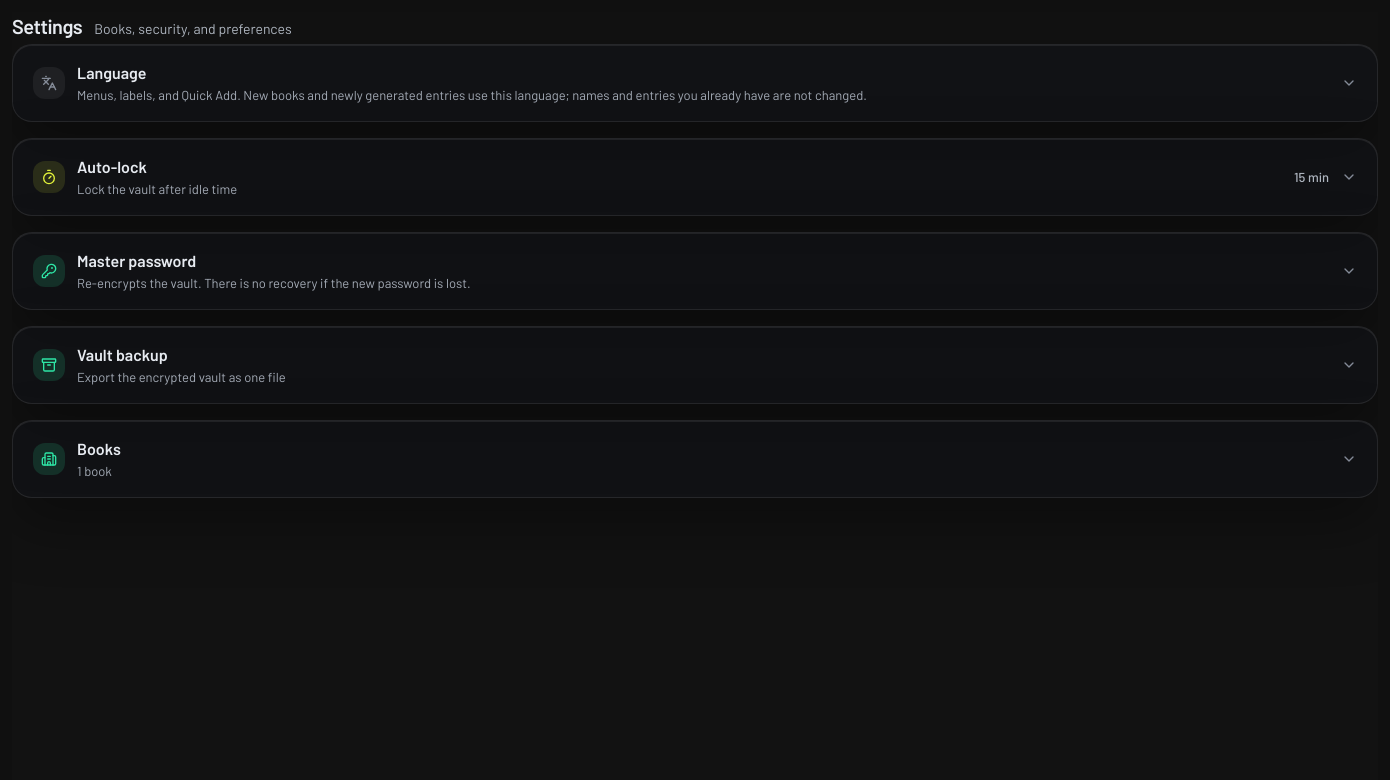
Scenario: SettingsPage archived books › a restore whose name was taken says which name and what to do, and the book stays archived
The image size is (1390, 780).
Click the button "Books 1 book".
click(49, 459)  # box [13,421,1377,497]
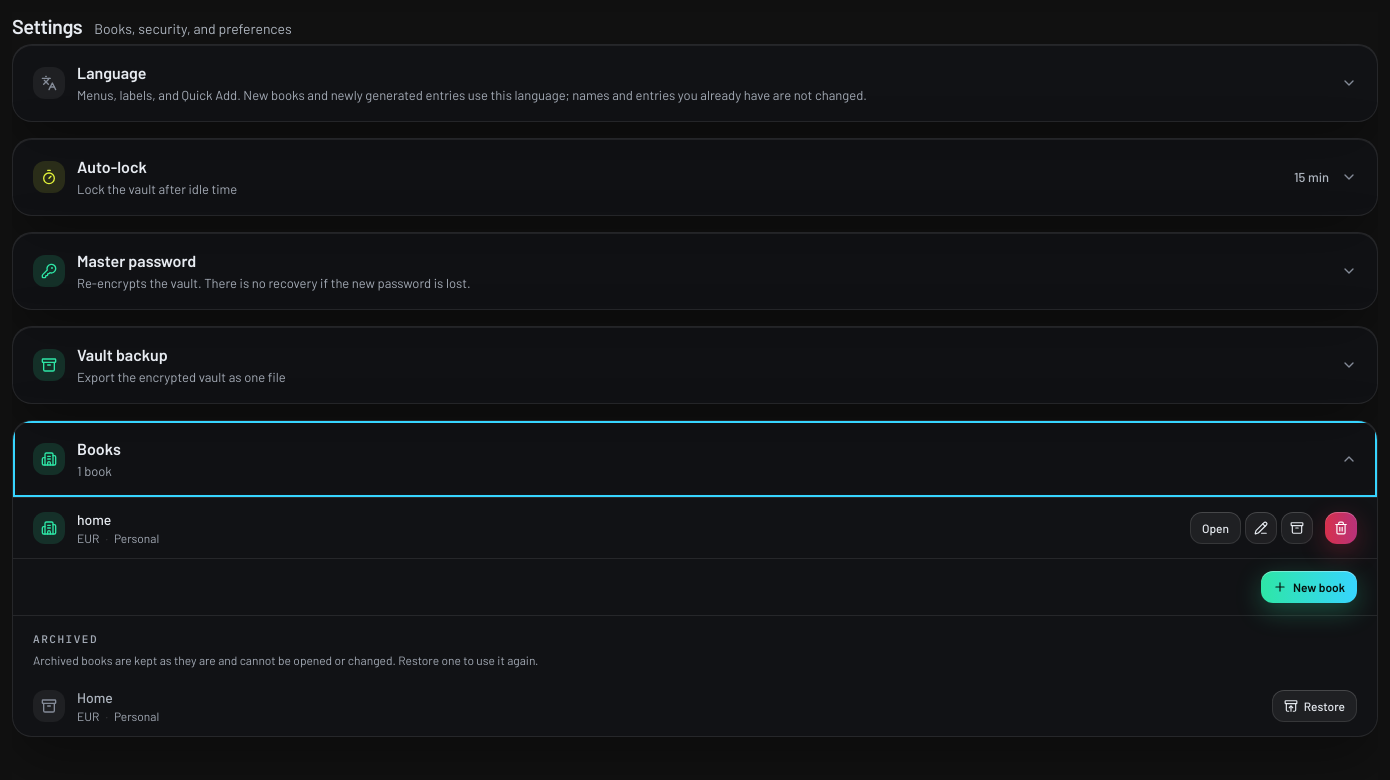
Click the button with aria-label "Restore Home".
click(1314, 706)  # box [1272,690,1357,722]
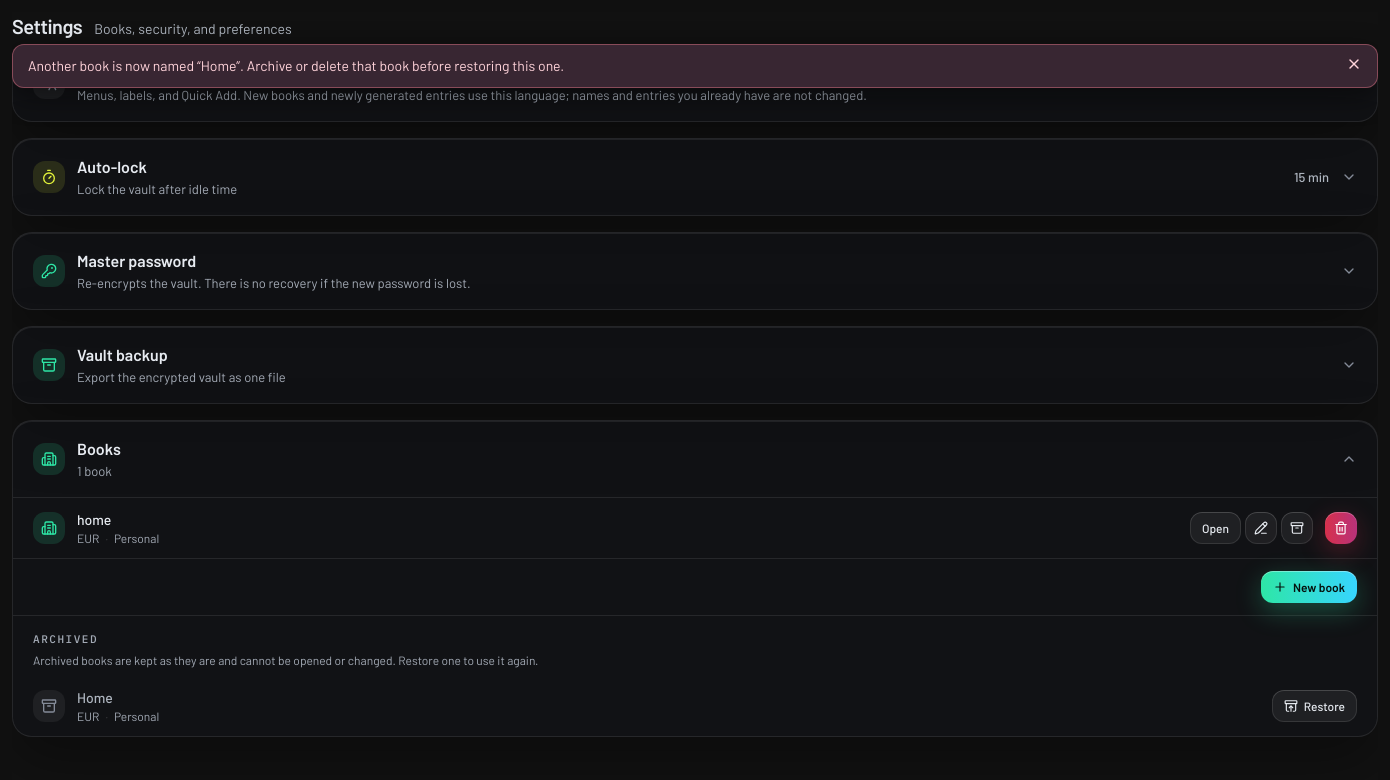
Expected: the button with aria-label "Restore Home" is enabled, [1272,690,1357,722]
Expected: the message shows "Another book is now named “Home”. Archive or delete that book before restoring this one.", [28,57,564,74]
